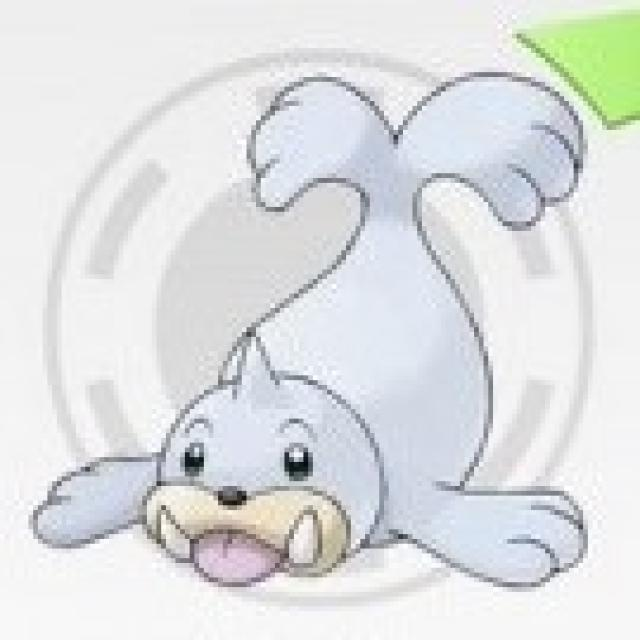Seel: (32, 63, 625, 603)
